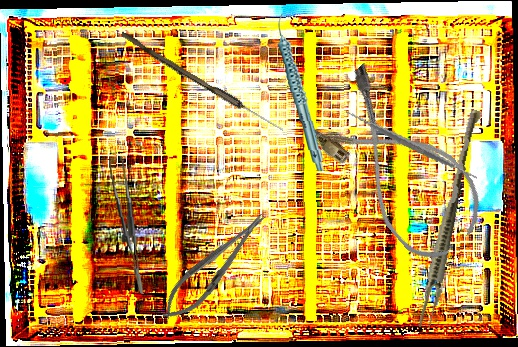Cannula: (296, 59, 498, 272)
Handpiece: (275, 12, 325, 173)
Needle Holder: (153, 204, 276, 330)
Spatula Surgical: (343, 76, 480, 213)
Surgical Spoon: (118, 31, 286, 134)
Tissue Forceps: (415, 107, 483, 331), (108, 157, 144, 296)
